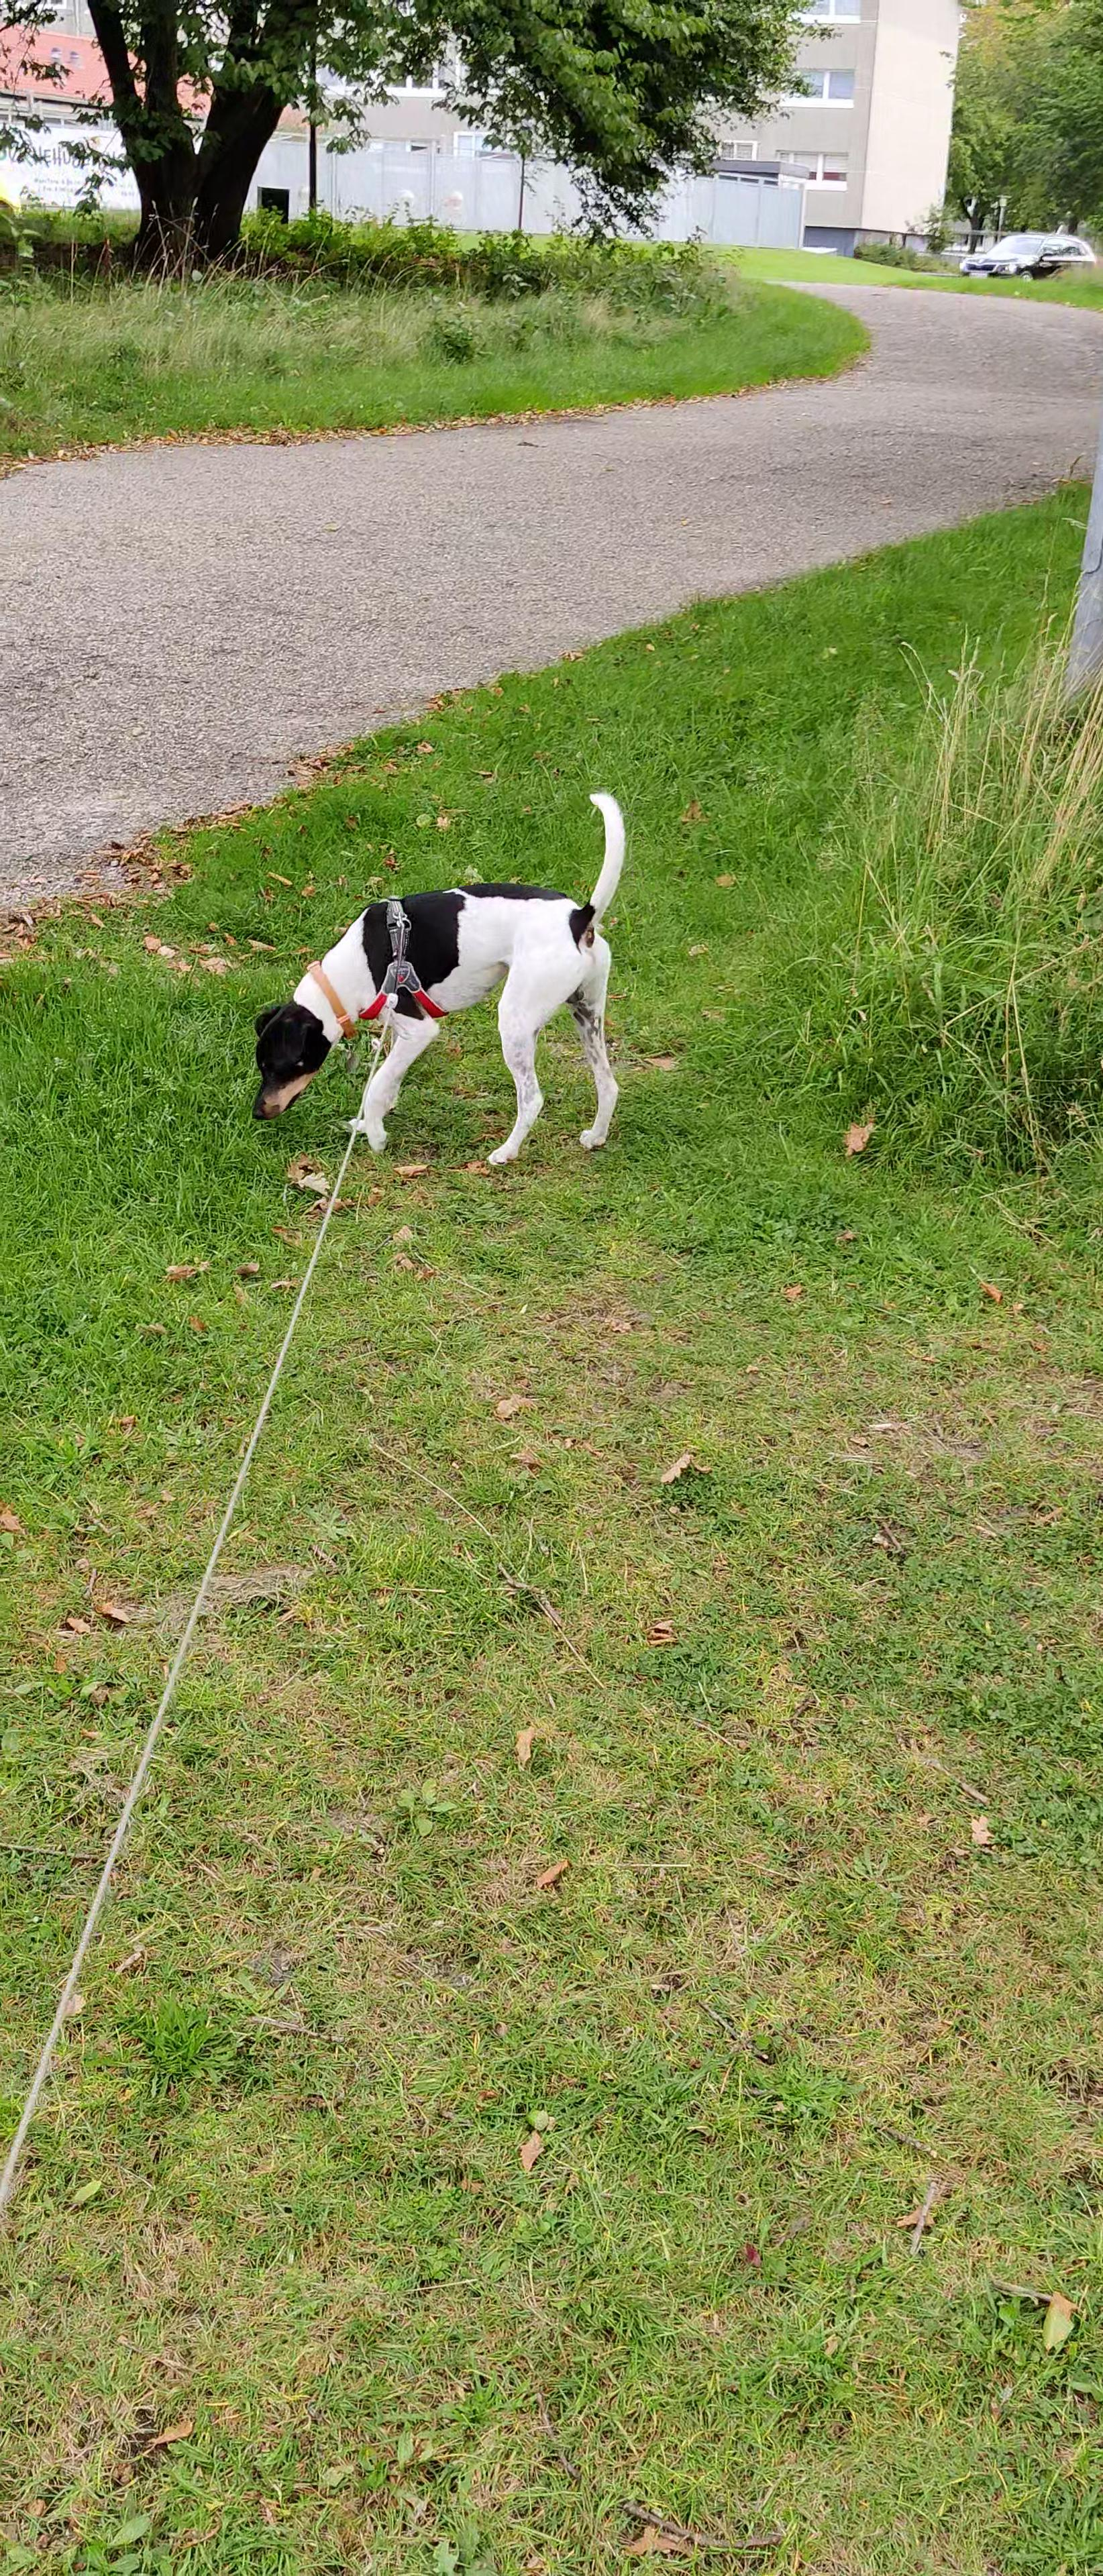Dog: (230, 779, 656, 1181)
